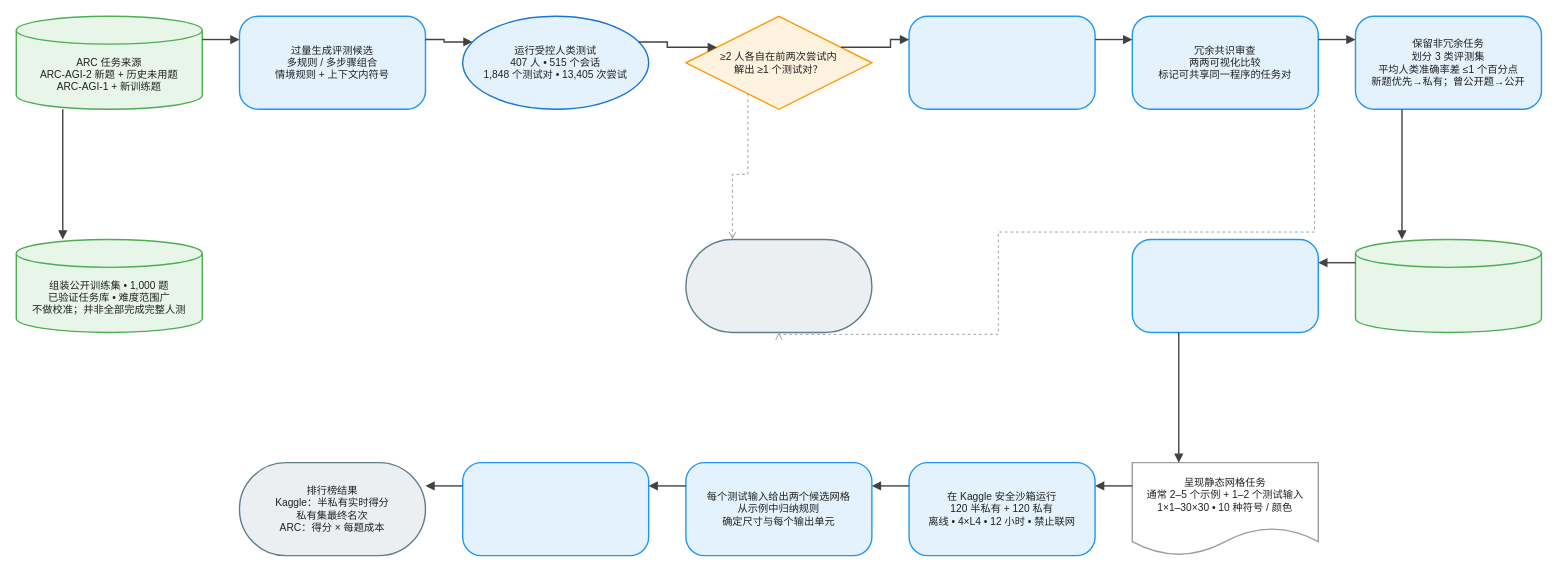
The diagram is 1559 pixels wide and 573 high, and some of its shapes have lost their labels. Here are the shapes that lost their labels. From the top down, the box of each, then its label:
(908, 15, 1095, 110): 通过筛选门槛 估算经验难度 整题完整正确率
(685, 238, 872, 333): 排除候选题 未达纳入门槛或被判冗余
(1131, 238, 1319, 333): 最终验证评测题 两位外部人员完成每道评测题 额外任务：由原作者之外人员审查
(1354, 238, 1542, 333): 公开 / 半私有 / 私有 各 120 道评测题
(462, 462, 649, 556): Pass@2 像素级精确整题规则 每个输入的两个候选任一可匹配 所有测试输入必须通过
